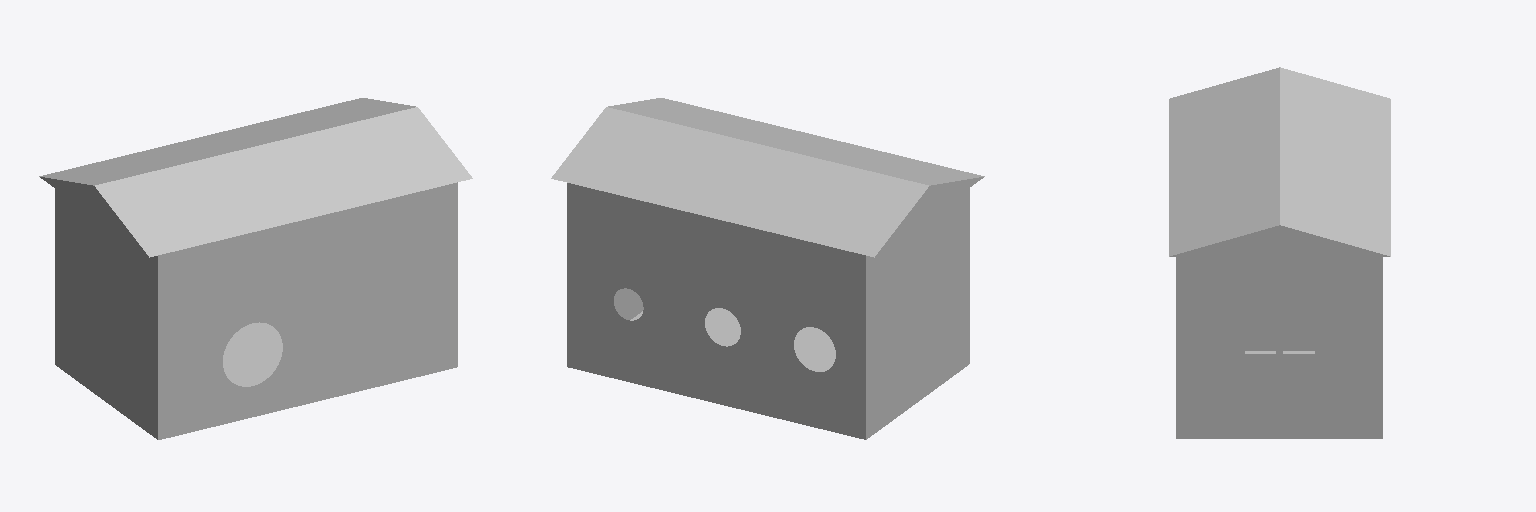
The model's file is grs_fork.obj.
The picture shows the model from 3 angles: view 1: azimuth 30°, elevation 25°; view 2: azimuth 150°, elevation 25°; view 3: azimuth 270°, elevation 25°; orthographic projection.
Visible parts, largest first — view 1: obj1; view 2: obj1; view 3: obj1.
Boxes of the visible parts, x1=… form: obj1: x1=39, y1=98, x2=472, y2=439; obj1: x1=551, y1=98, x2=984, y2=439; obj1: x1=1169, y1=67, x2=1390, y2=438.
Bounding box in the file's own units: 5.4 × 3.5 × 3.2.